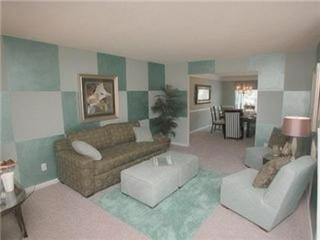cat: (224, 109, 242, 139)
chair: (217, 155, 314, 227), (243, 128, 293, 169), (209, 105, 228, 133)
pottedplant: (150, 86, 183, 149)
sofa: (51, 122, 172, 197)
